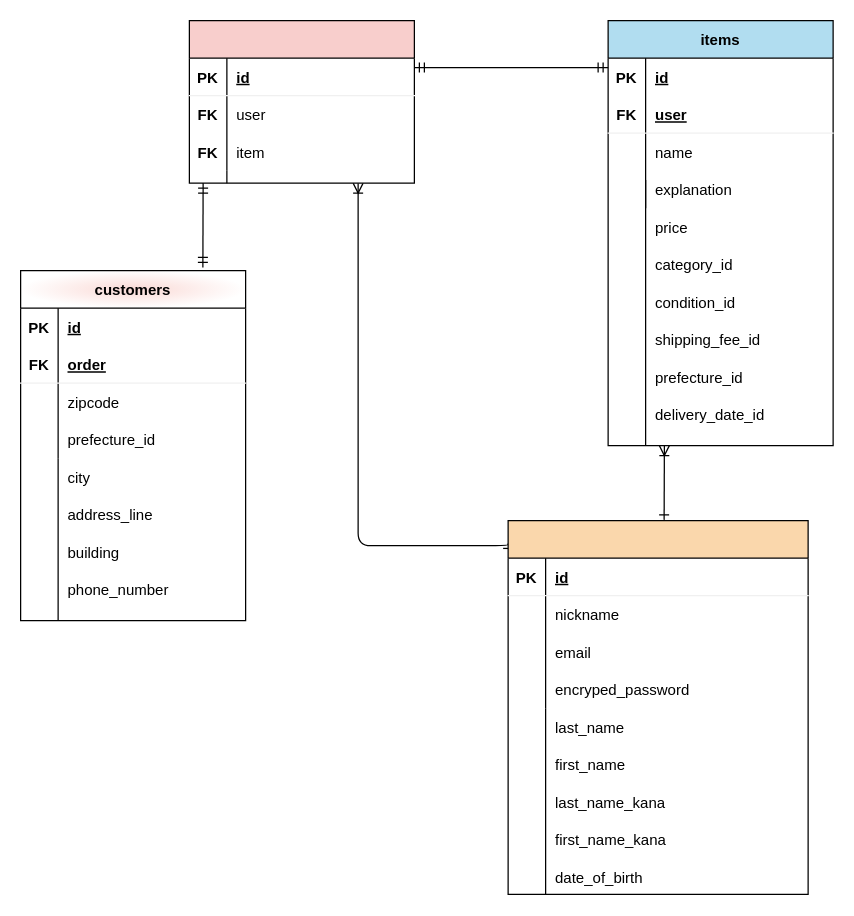
Some shapes in this 854 by 916 pixel diagram are drawn without their labels. The shapes that lost their labels are listed below. From the top down, each one's box as (x1, y1, x2, y2) in pixels, then its label:
(188, 19, 414, 183): orders
(507, 519, 808, 894): users
